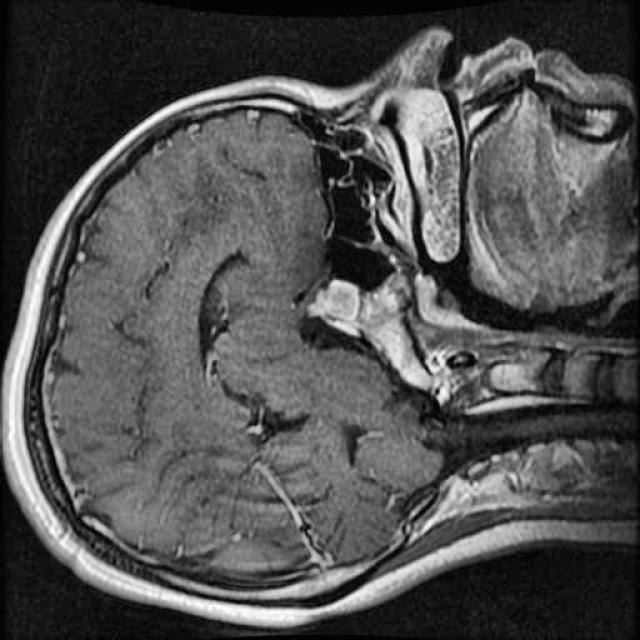Tumor: (304, 271, 368, 336)
